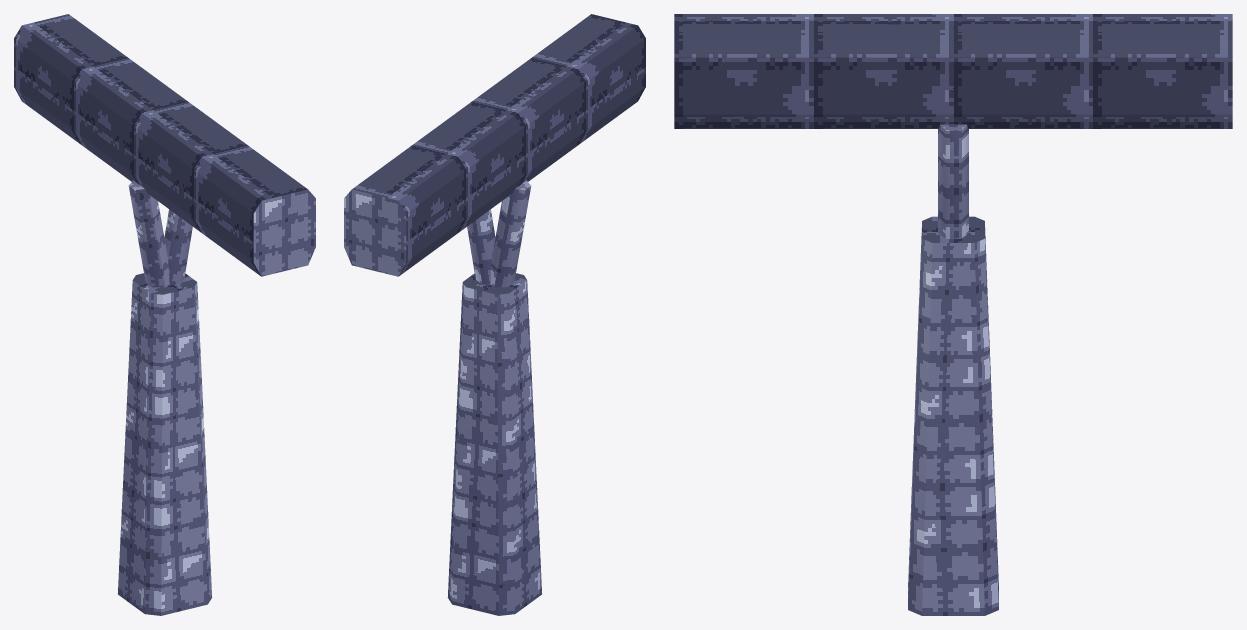
Rendered from cystreet.rail.glb.
3 views of the same model, side by side, from view 1: azimuth 30°, elevation 25°; view 2: azimuth 150°, elevation 25°; view 3: azimuth 270°, elevation 25° (orthographic). The views are drawn at different scales.
Parts seen in each view (by area): view 1: kit_beam; view 2: kit_beam; view 3: kit_beam.
Boxes of the visible parts, <box> form: kit_beam: <box>14,14,315,615</box>; kit_beam: <box>344,14,645,615</box>; kit_beam: <box>674,14,1232,615</box>.
Bounding box in the file's own units: 1.3 × 9 × 8.
Materials: 3 (3 with a texture image).
